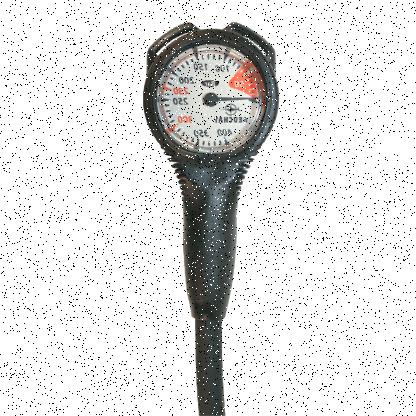needle: (218, 96, 256, 101)
